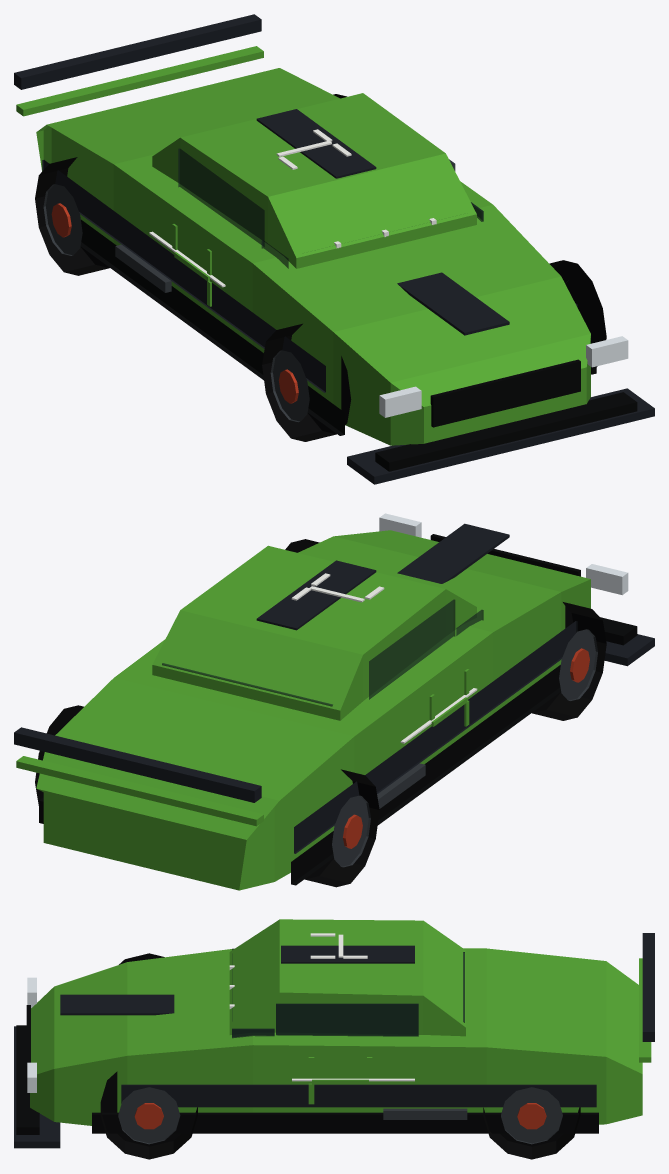
Rendered from stock_car_04.obj.
3 renders of one model, top to bottom at view 1: azimuth 30°, elevation 25°; view 2: azimuth 150°, elevation 25°; view 3: azimuth 270°, elevation 25°, orthographic. The views are drawn at different scales.
Parts seen in each view (by area): view 1: StockCar_04; view 2: StockCar_04; view 3: StockCar_04.
Boxes of the visible parts, x1,y1,x2,y2 form: StockCar_04: (14, 14, 654, 484); StockCar_04: (14, 513, 654, 890); StockCar_04: (14, 919, 654, 1159).
Bounding box in the file's own units: 2.35 × 1.34 × 5.26.
